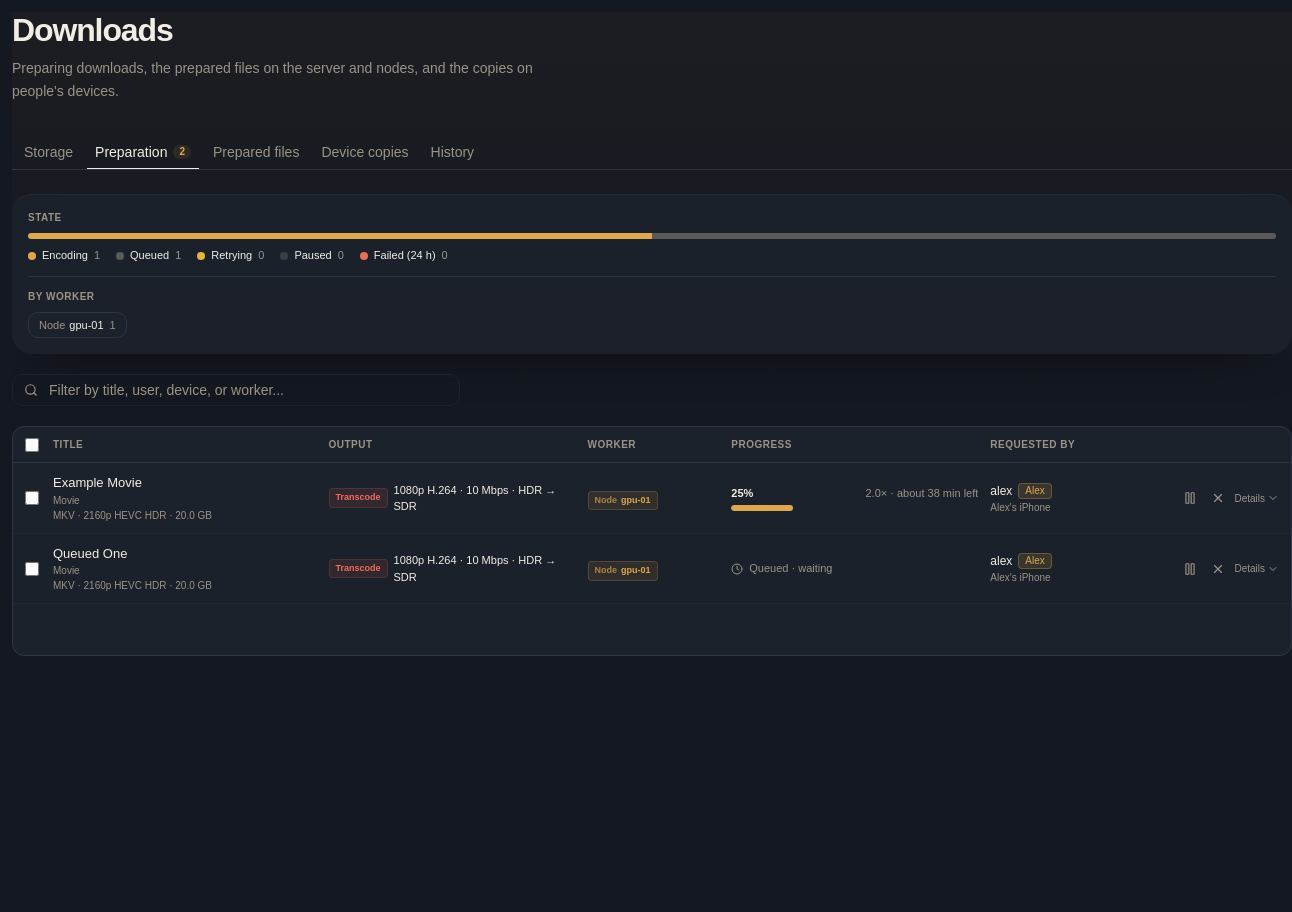
Test: AdminDownloads preparation tab › filters by state and search text
Click the button "Queued 1": (149, 256) [116,247,181,264]
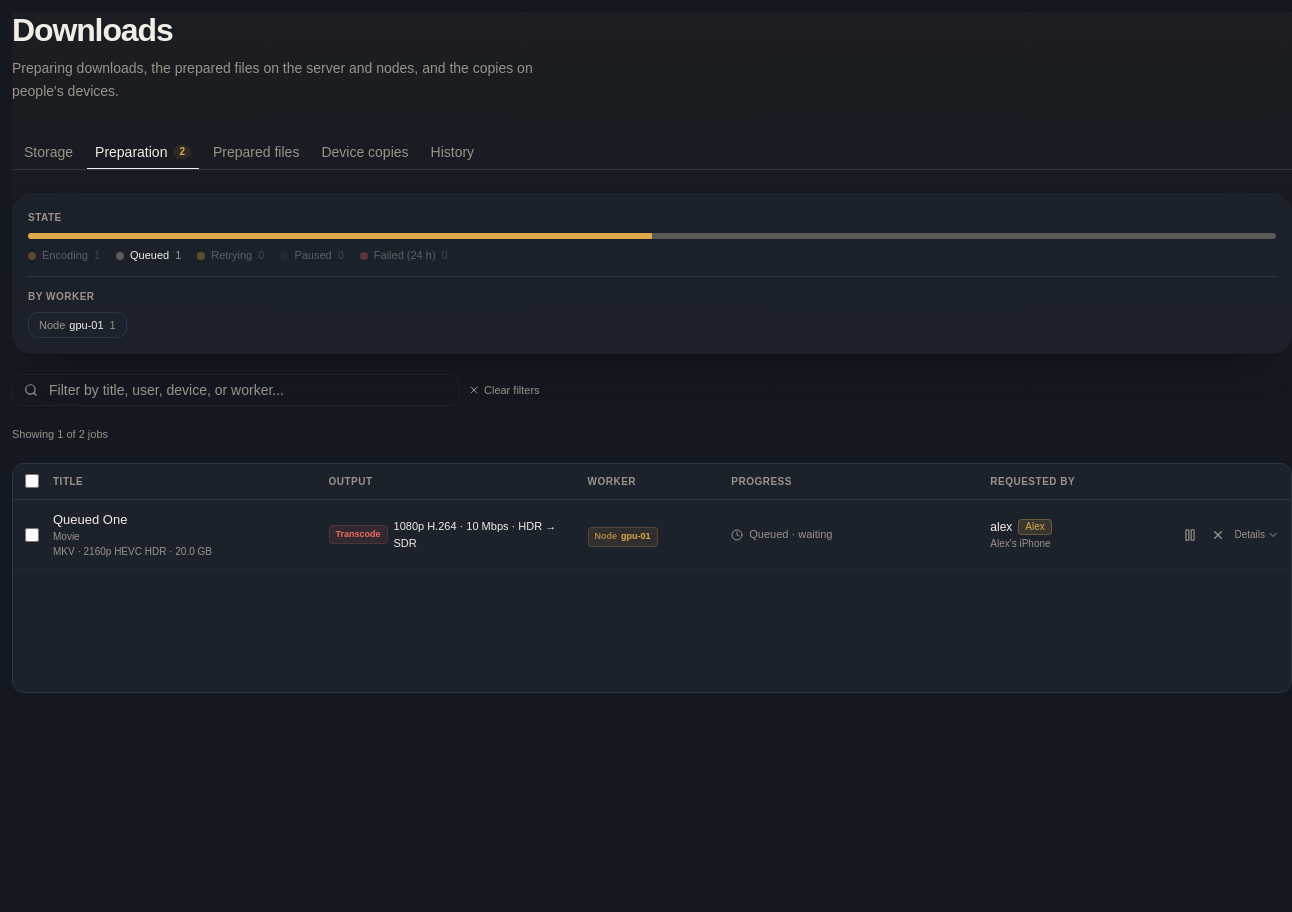
expect the text "Showing 1 of 2 jobs" is shown: met, box [12,428,108,440]
expect the progress indicator is gone: met
Click the button "Clear filters": (504, 390) [468,382,540,398]
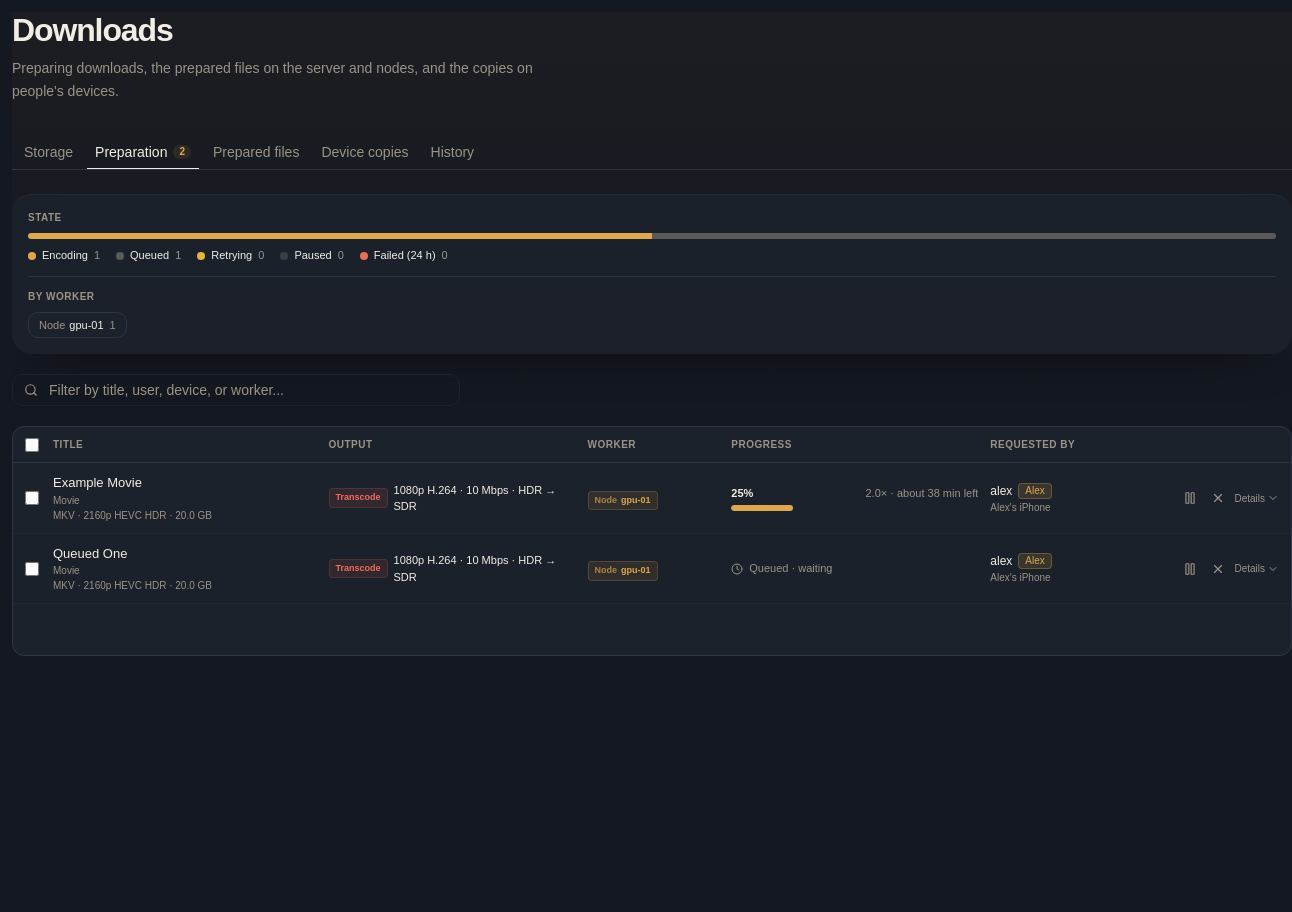
In the field named "Filter download preparation": (236, 390) [12,374,460,406], type "alex's iphone"
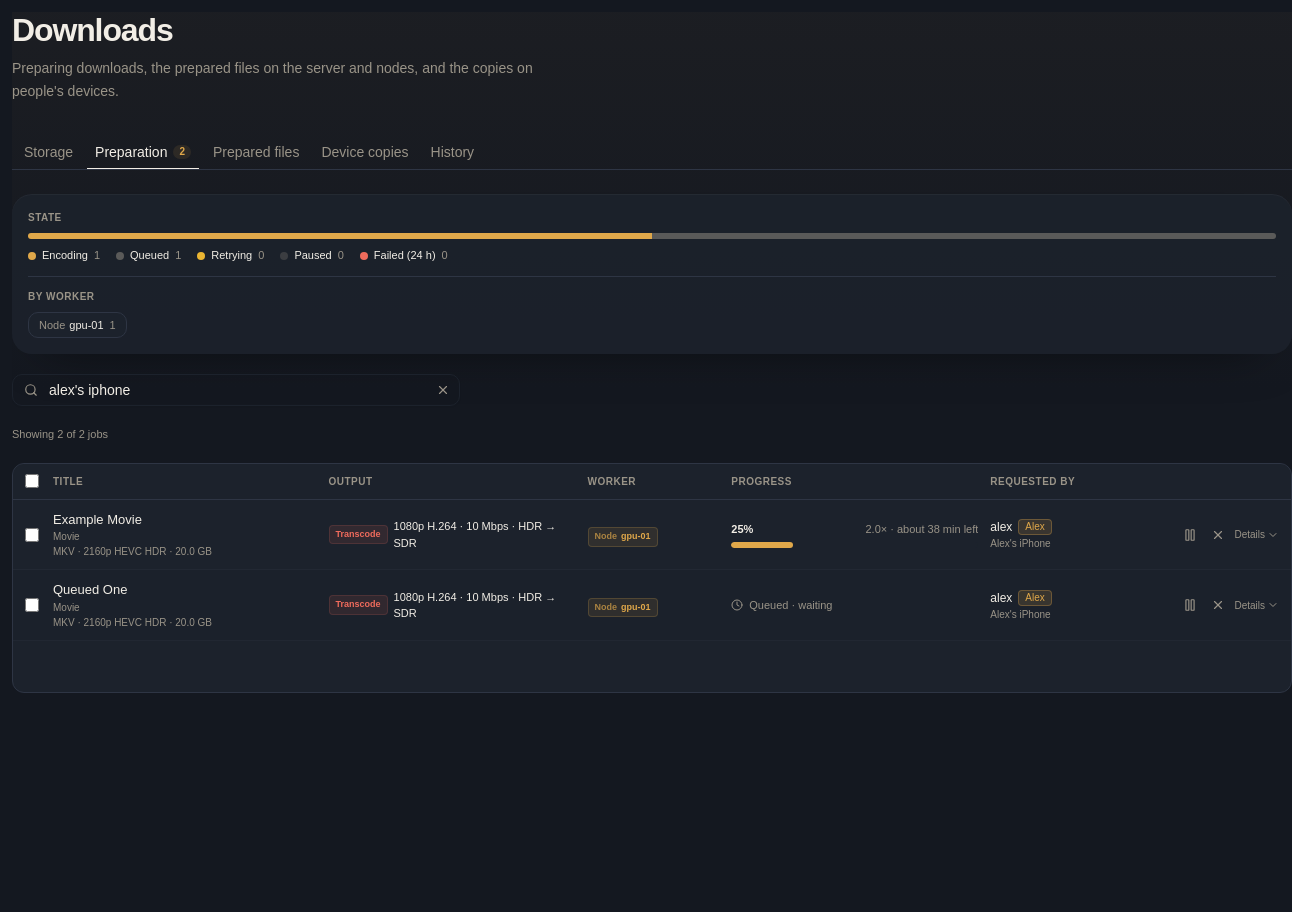
expect the text "Showing 2 of 2 jobs" is shown: met, box [12,428,108,440]
Replace the text in the field named "Filter download preparation" with "nothing matches": (236, 390) [12,374,460,406]
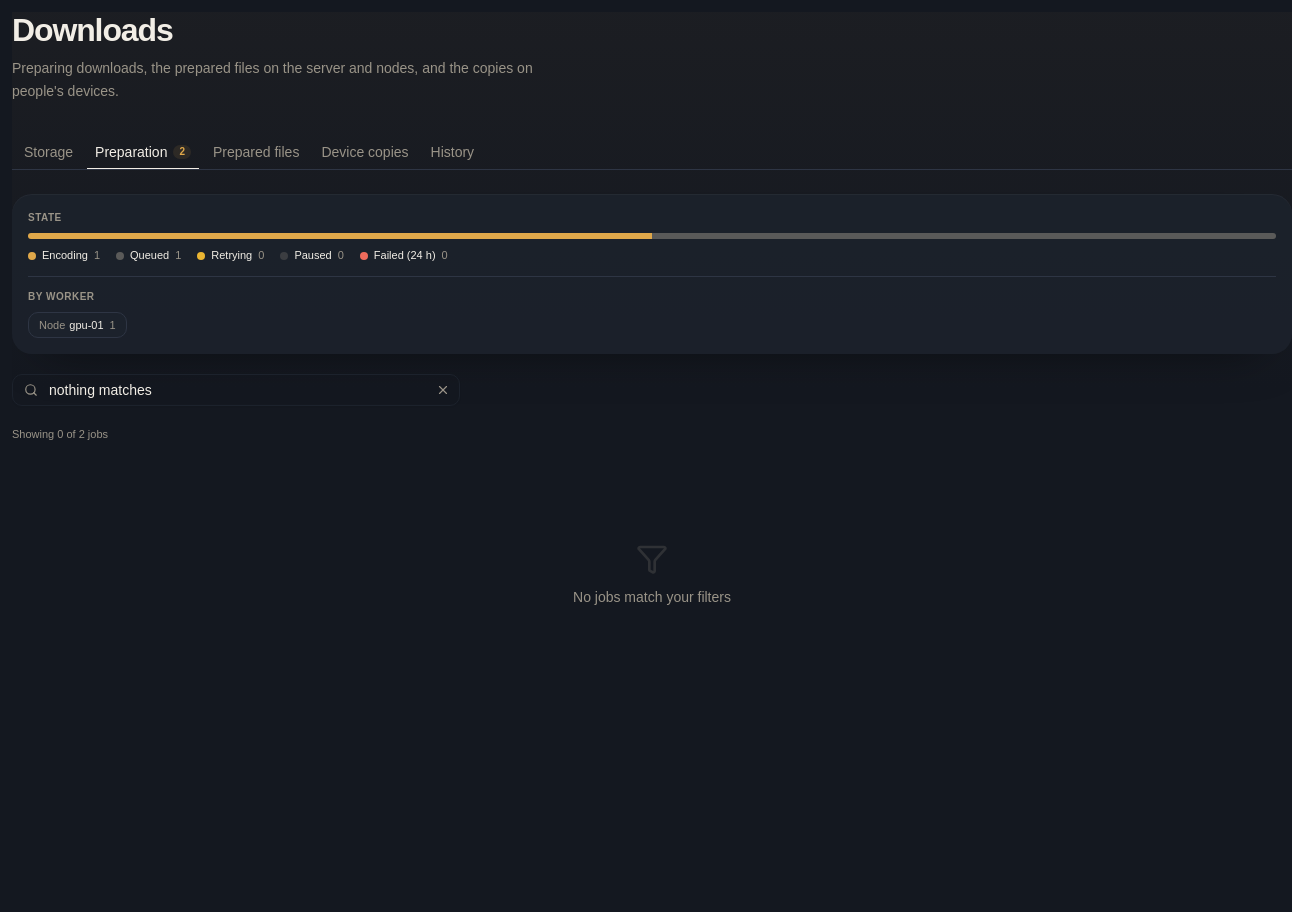
expect the text "No jobs match your filters" is shown: met, box [573,587,731,607]
